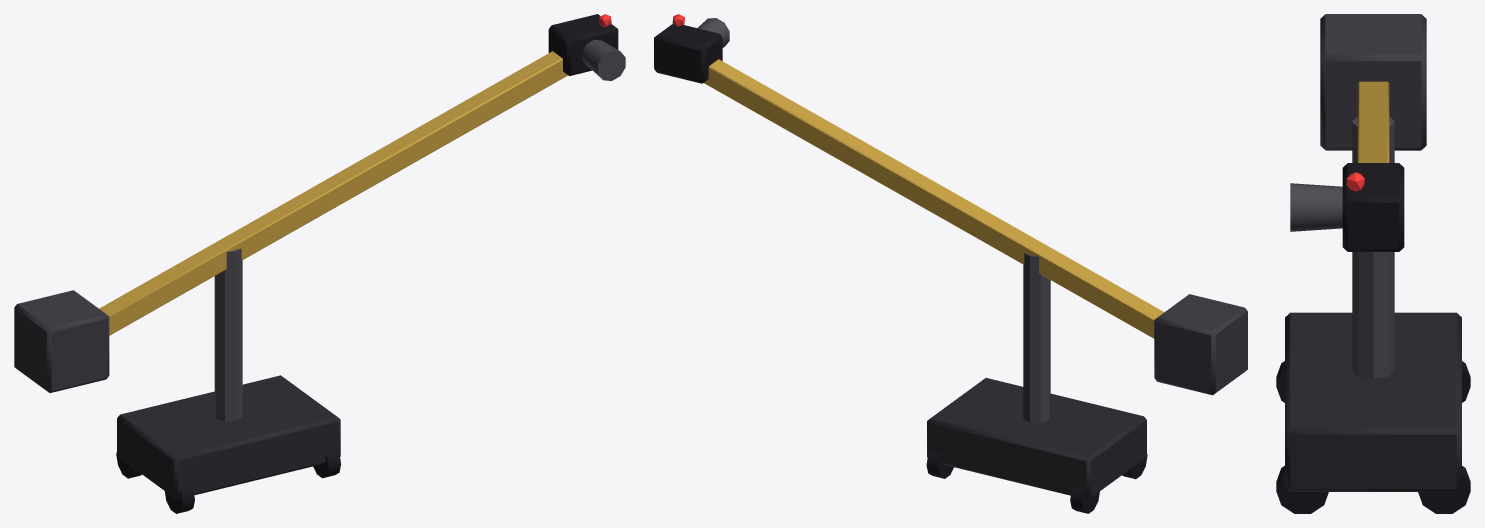
File: camera_crane.glb
The picture shows the model from 3 angles, left to right: view 1: azimuth 30°, elevation 25°; view 2: azimuth 150°, elevation 25°; view 3: azimuth 270°, elevation 25°; orthographic projection. The views are drawn at different scales.
Visible parts, largest first — view 1: camera_crane; view 2: camera_crane; view 3: camera_crane.
Boxes of the visible parts, <box> form: camera_crane: <box>14,14,625,513</box>; camera_crane: <box>654,14,1247,513</box>; camera_crane: <box>1276,14,1470,513</box>.
Bounding box in the file's own units: 5.55 × 3.43 × 1.1.
